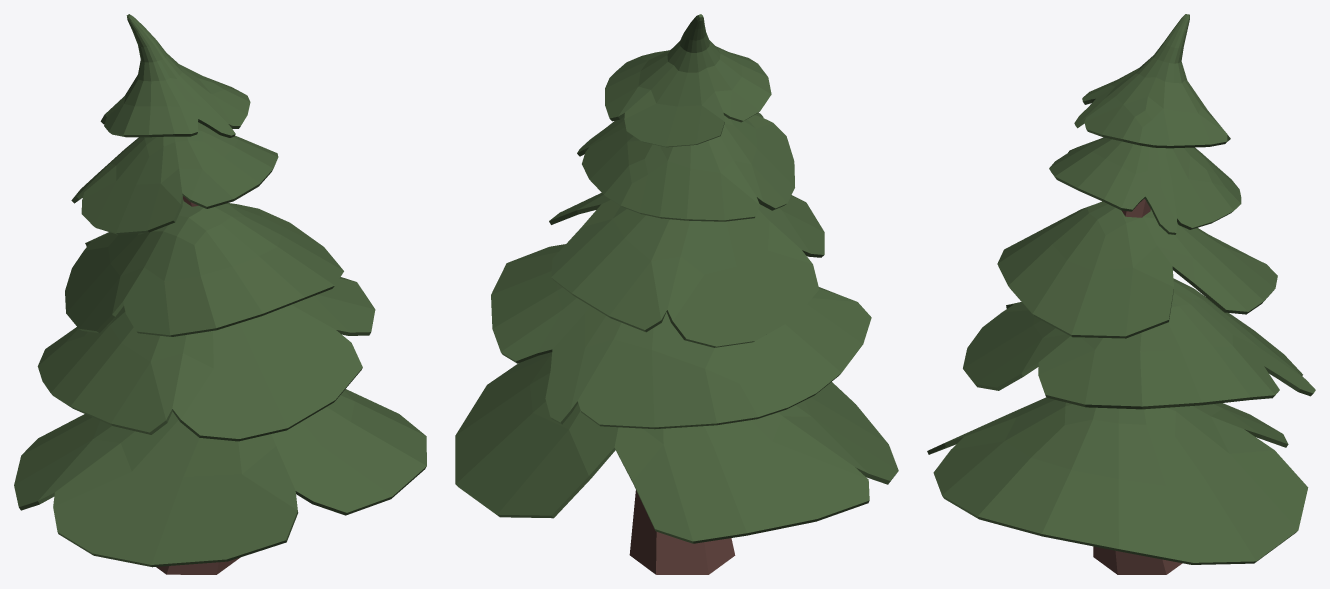
The model's file is pine.glb.
3 renders of one model, left to right at view 1: azimuth 30°, elevation 25°; view 2: azimuth 150°, elevation 25°; view 3: azimuth 270°, elevation 25°, orthographic. The views are drawn at different scales.
Parts seen in each view (by area): view 1: PineTree_1; view 2: PineTree_1; view 3: PineTree_1.
Part boxes in pixels (x1,y1,x2,y2): PineTree_1: (14, 14, 426, 574); PineTree_1: (455, 14, 898, 574); PineTree_1: (927, 14, 1315, 574).
Bounding box in the file's own units: 1.96 × 2.7 × 1.82.
